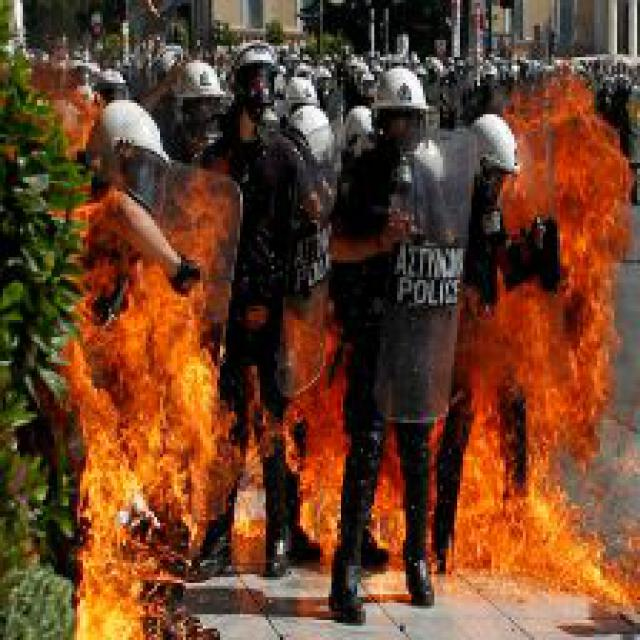fire: (437, 57, 637, 606), (40, 177, 266, 637)
